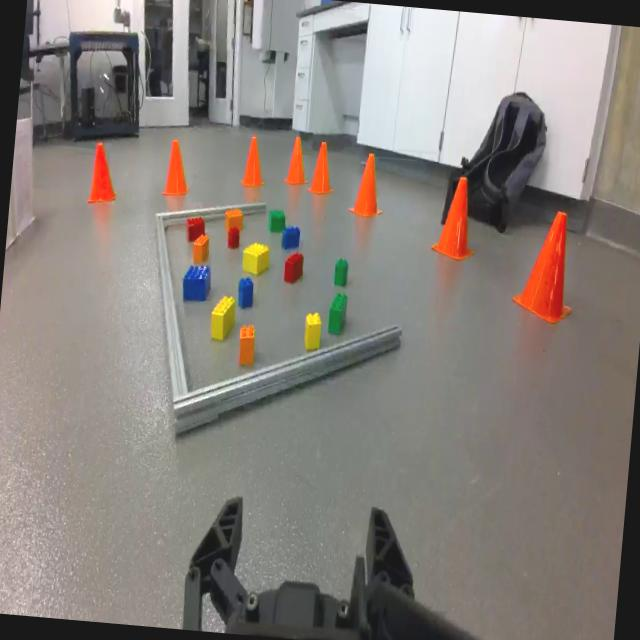block: (206, 290, 239, 347), (241, 237, 272, 276), (300, 305, 324, 352)
blue: (180, 262, 214, 304), (280, 220, 302, 252), (236, 275, 256, 309)
cone: (506, 200, 586, 332), (426, 171, 484, 269), (347, 151, 388, 223), (84, 137, 124, 210), (158, 136, 196, 202), (237, 131, 270, 193), (308, 138, 337, 198), (283, 132, 311, 188)
green: (324, 289, 352, 336), (331, 255, 351, 288), (266, 207, 288, 236)
metal barrier: (154, 199, 403, 432)
orange: (235, 319, 259, 372), (223, 202, 246, 237), (190, 233, 211, 266)
red goal: (282, 250, 304, 286), (184, 214, 208, 243), (224, 226, 241, 250)
